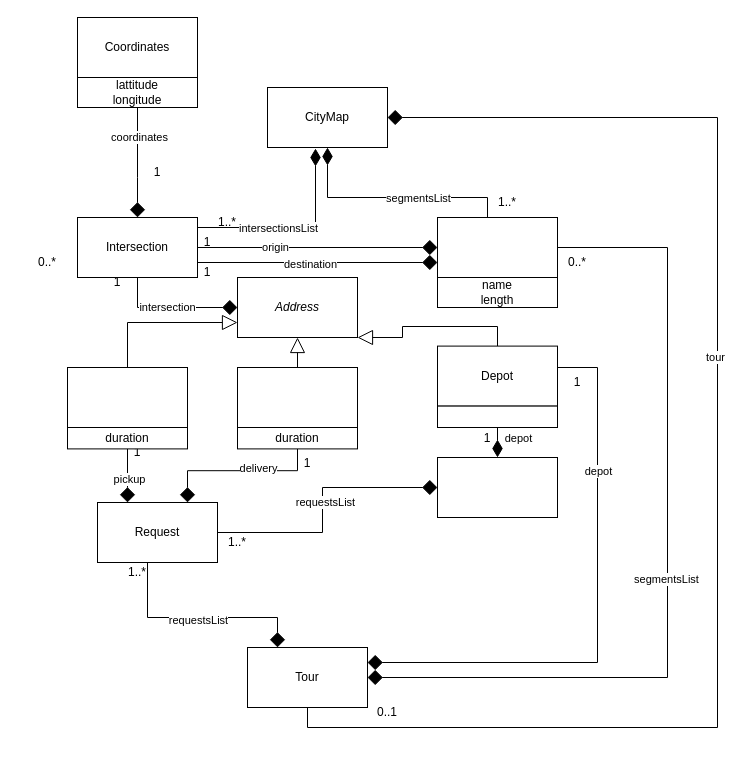
The diagram is 750 pixels wide and 760 high, and some of its shapes have lost their labels. Here are the shapes that lost their labels. From the top down, the centre of each, then its label:
At (x=497, y=247): "Segment".
At (x=127, y=397): "PickupAddress".
At (x=297, y=397): "DeliveryAddress".
At (x=497, y=416): "departureTime".
At (x=497, y=487): "PlanningRequest".
